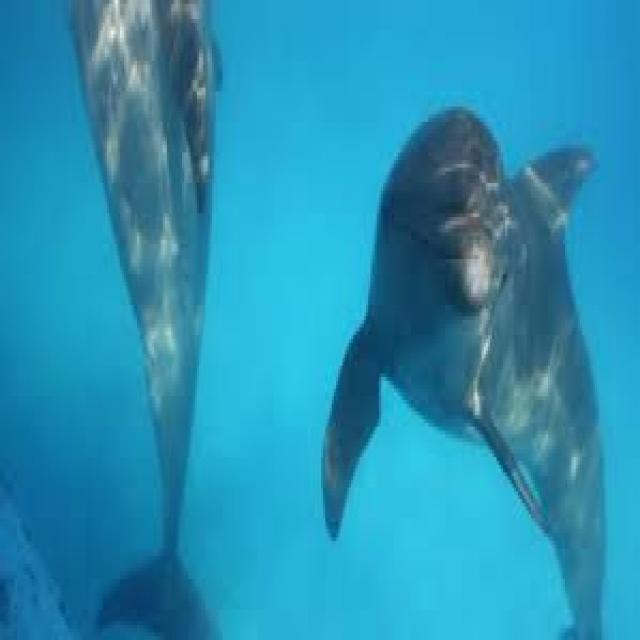dolphin: (319, 69, 606, 606)
